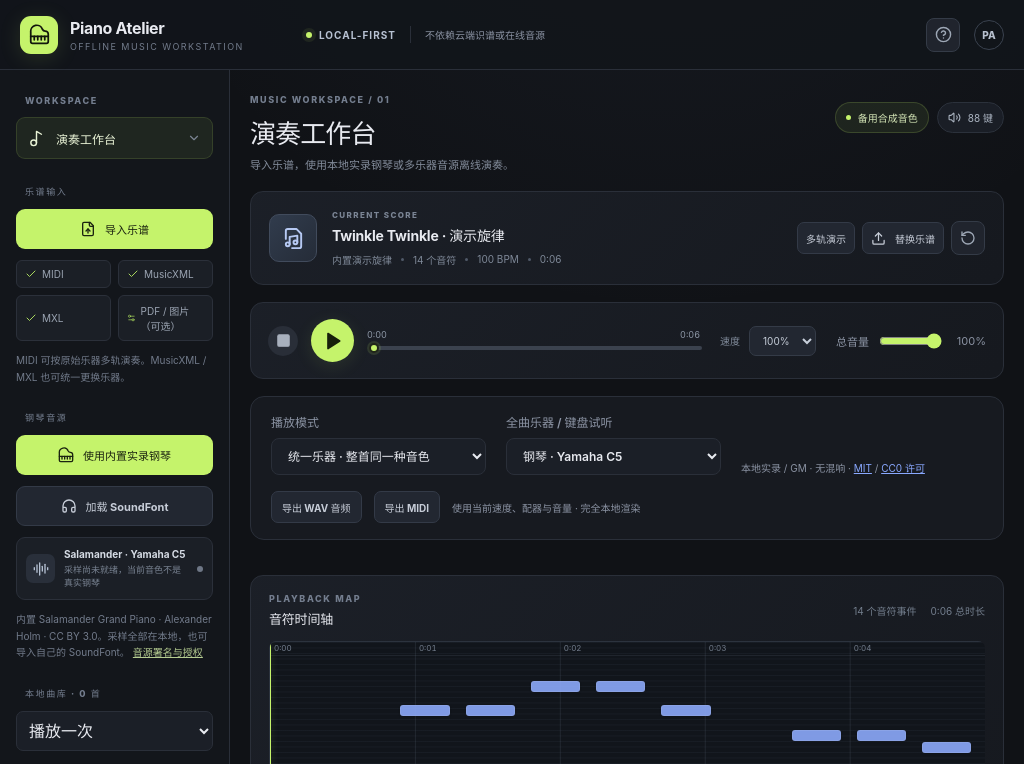
Scenario: keeps the previous instrument selection when its bank cannot load
Select "小提琴 · GM" in the dropdown named "演奏乐器" at (614, 456), box [506,438,721,475]
(page scrolled)
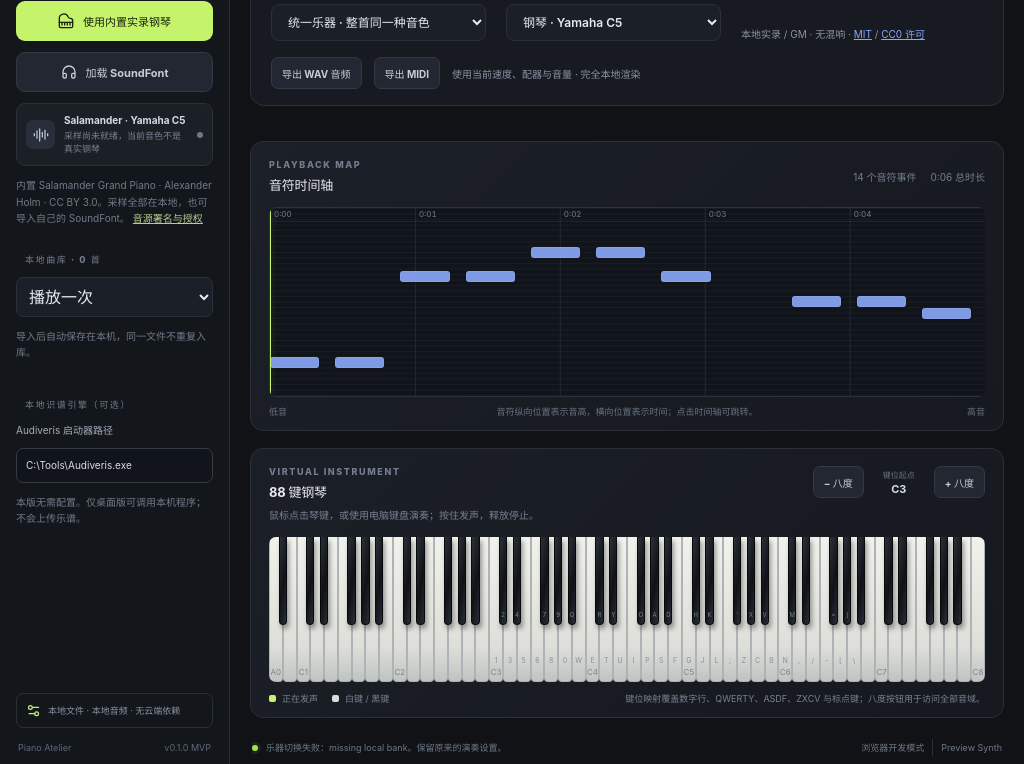
Expected: the message "乐器切换失败：missing local bank。保留原来的演奏设置。" is shown, [252,741,507,754]
